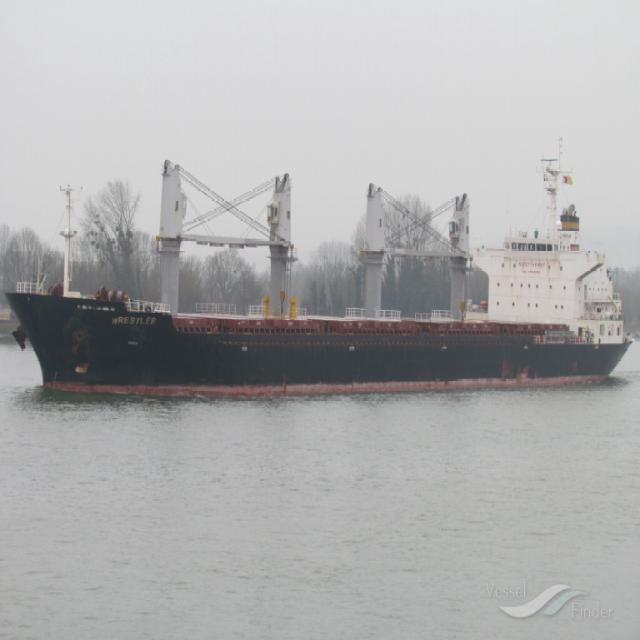OCR: (106, 314, 162, 336)
